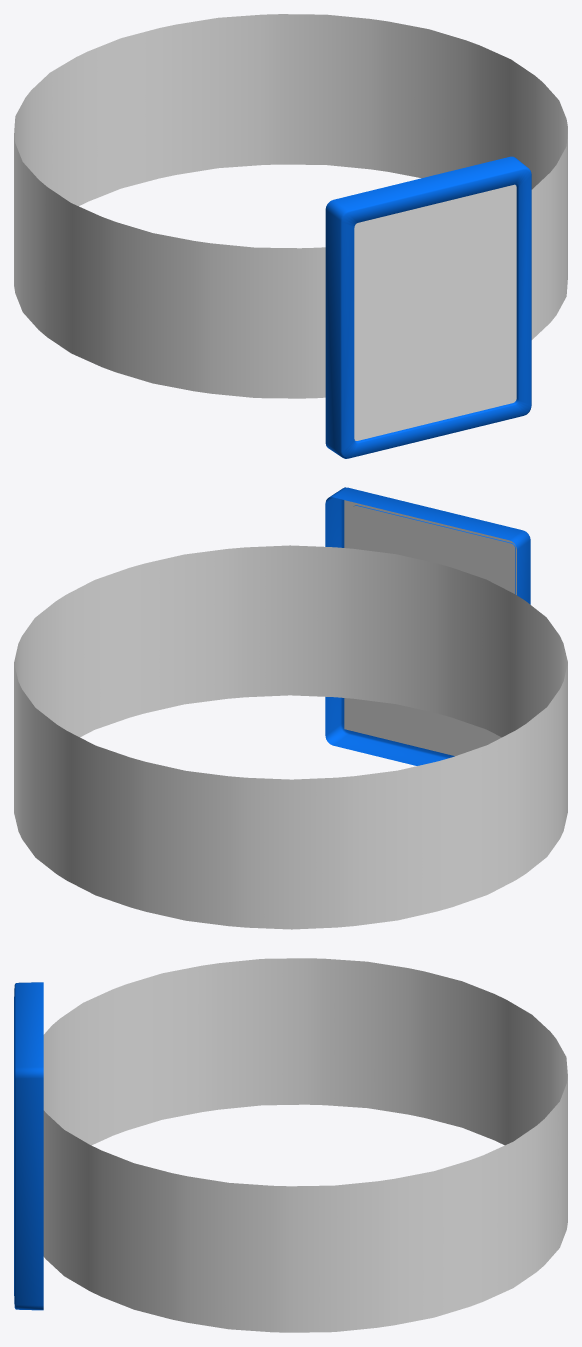
File: Frame.glb
The picture shows the model from 3 angles, top to bottom: view 1: azimuth 30°, elevation 25°; view 2: azimuth 150°, elevation 25°; view 3: azimuth 270°, elevation 25°; orthographic projection. The views are drawn at different scales.
Visible parts, largest first — view 1: Cylinder, Glass Panel, Frame; view 2: Cylinder, Frame, Glass Panel; view 3: Cylinder, Frame.
Part boxes in pixels (box(x1,y1,x2,y2)): Cylinder: box(14, 14, 567, 398); Glass Panel: box(354, 184, 516, 440); Frame: box(325, 156, 531, 458); Cylinder: box(14, 545, 567, 929); Frame: box(325, 487, 530, 765); Glass Panel: box(344, 500, 516, 756); Cylinder: box(43, 958, 567, 1332); Frame: box(14, 982, 43, 1310).
Bounding box in the file's own units: 4.66 × 2.31 × 4.79.
